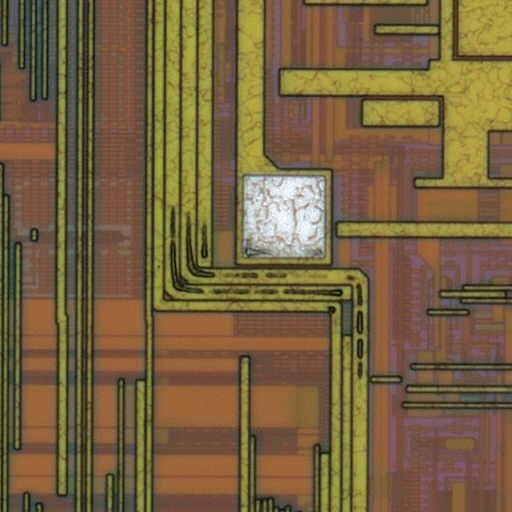SCRATCH: (149, 189, 371, 382)
